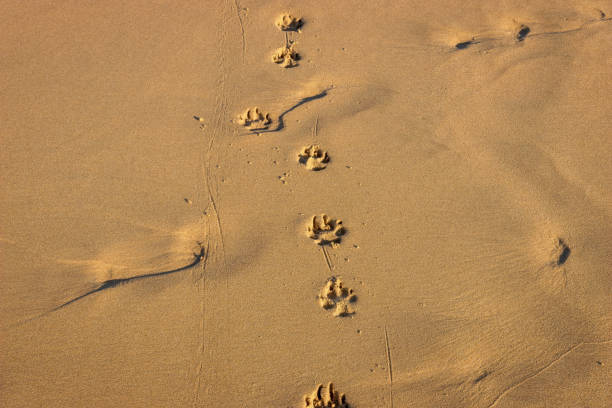animal_footprint: (318, 277, 356, 316), (307, 214, 344, 246), (304, 382, 348, 407), (298, 145, 328, 170), (238, 107, 271, 129), (272, 43, 299, 67), (550, 238, 570, 266), (275, 13, 302, 30), (515, 24, 530, 41)
